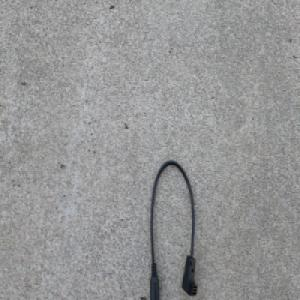Wire: (147, 157, 199, 300)
